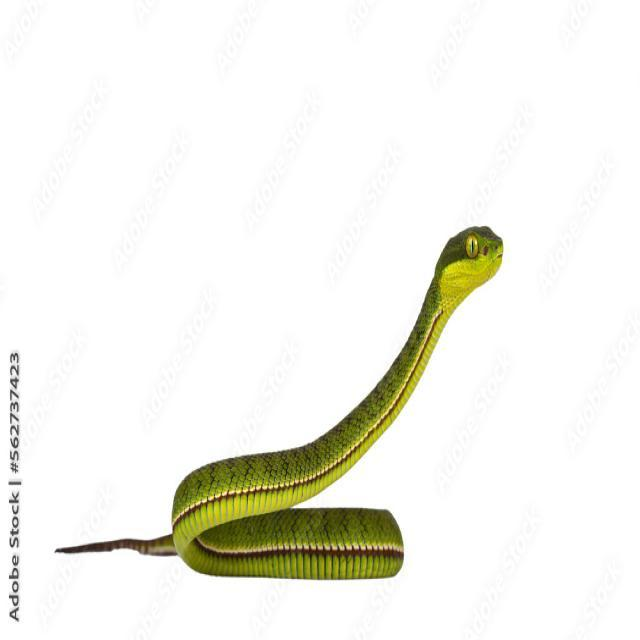Snake: (46, 192, 519, 591)
